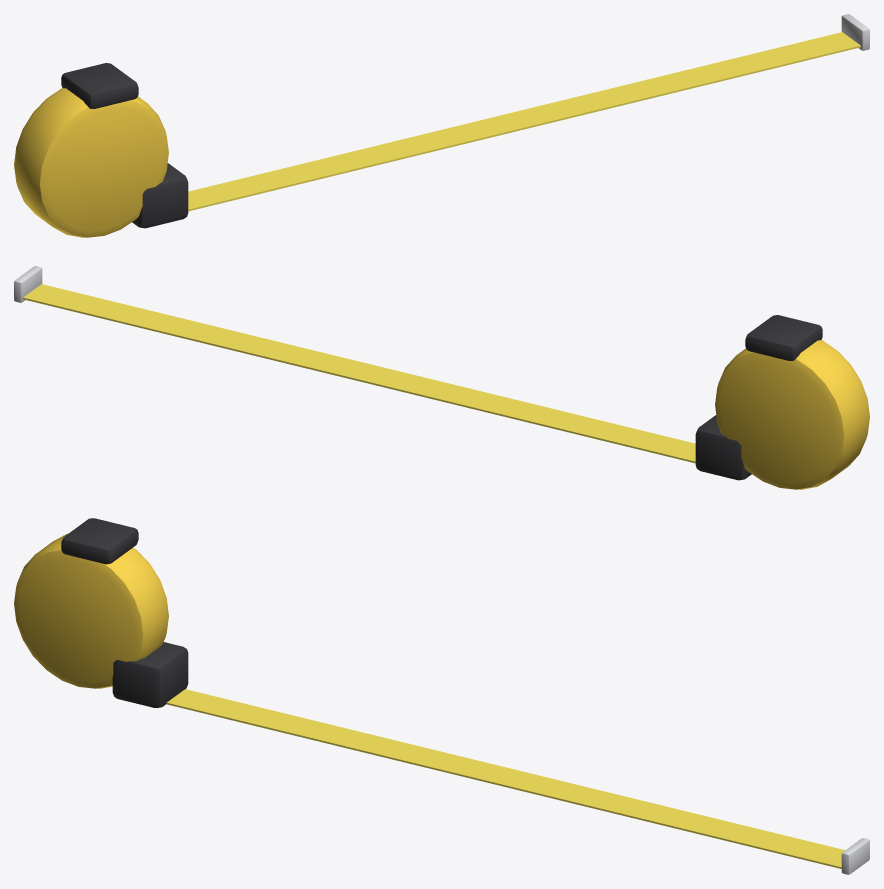
File: EQP-MAO-010.glb
3 renders of one model, top to bottom at view 1: azimuth 30°, elevation 25°; view 2: azimuth 150°, elevation 25°; view 3: azimuth 330°, elevation 25°, orthographic.
Parts seen in each view (by area): view 1: EQP-MAO-010_caixa, EQP-MAO-010_fita, EQP-MAO-010_trava, EQP-MAO-010_saida, EQP-MAO-010_gancho; view 2: EQP-MAO-010_caixa, EQP-MAO-010_fita, EQP-MAO-010_trava, EQP-MAO-010_saida, EQP-MAO-010_gancho; view 3: EQP-MAO-010_caixa, EQP-MAO-010_fita, EQP-MAO-010_saida, EQP-MAO-010_trava, EQP-MAO-010_gancho.
Part boxes in pixels (<box>): EQP-MAO-010_caixa: <box>14,88,168,237</box>; EQP-MAO-010_fita: <box>188,32,860,211</box>; EQP-MAO-010_trava: <box>61,63,138,108</box>; EQP-MAO-010_saida: <box>132,163,188,228</box>; EQP-MAO-010_gancho: <box>841,14,869,50</box>; EQP-MAO-010_caixa: <box>715,340,869,489</box>; EQP-MAO-010_fita: <box>23,284,695,463</box>; EQP-MAO-010_trava: <box>745,315,822,360</box>; EQP-MAO-010_saida: <box>695,415,751,480</box>; EQP-MAO-010_gancho: <box>14,266,42,302</box>; EQP-MAO-010_caixa: <box>14,533,168,688</box>; EQP-MAO-010_fita: <box>166,689,845,868</box>; EQP-MAO-010_saida: <box>112,642,188,707</box>; EQP-MAO-010_trava: <box>61,518,138,564</box>; EQP-MAO-010_gancho: <box>841,838,869,874</box>.
Size of the model in its own units: 0.495 by 0.085 by 0.032.
